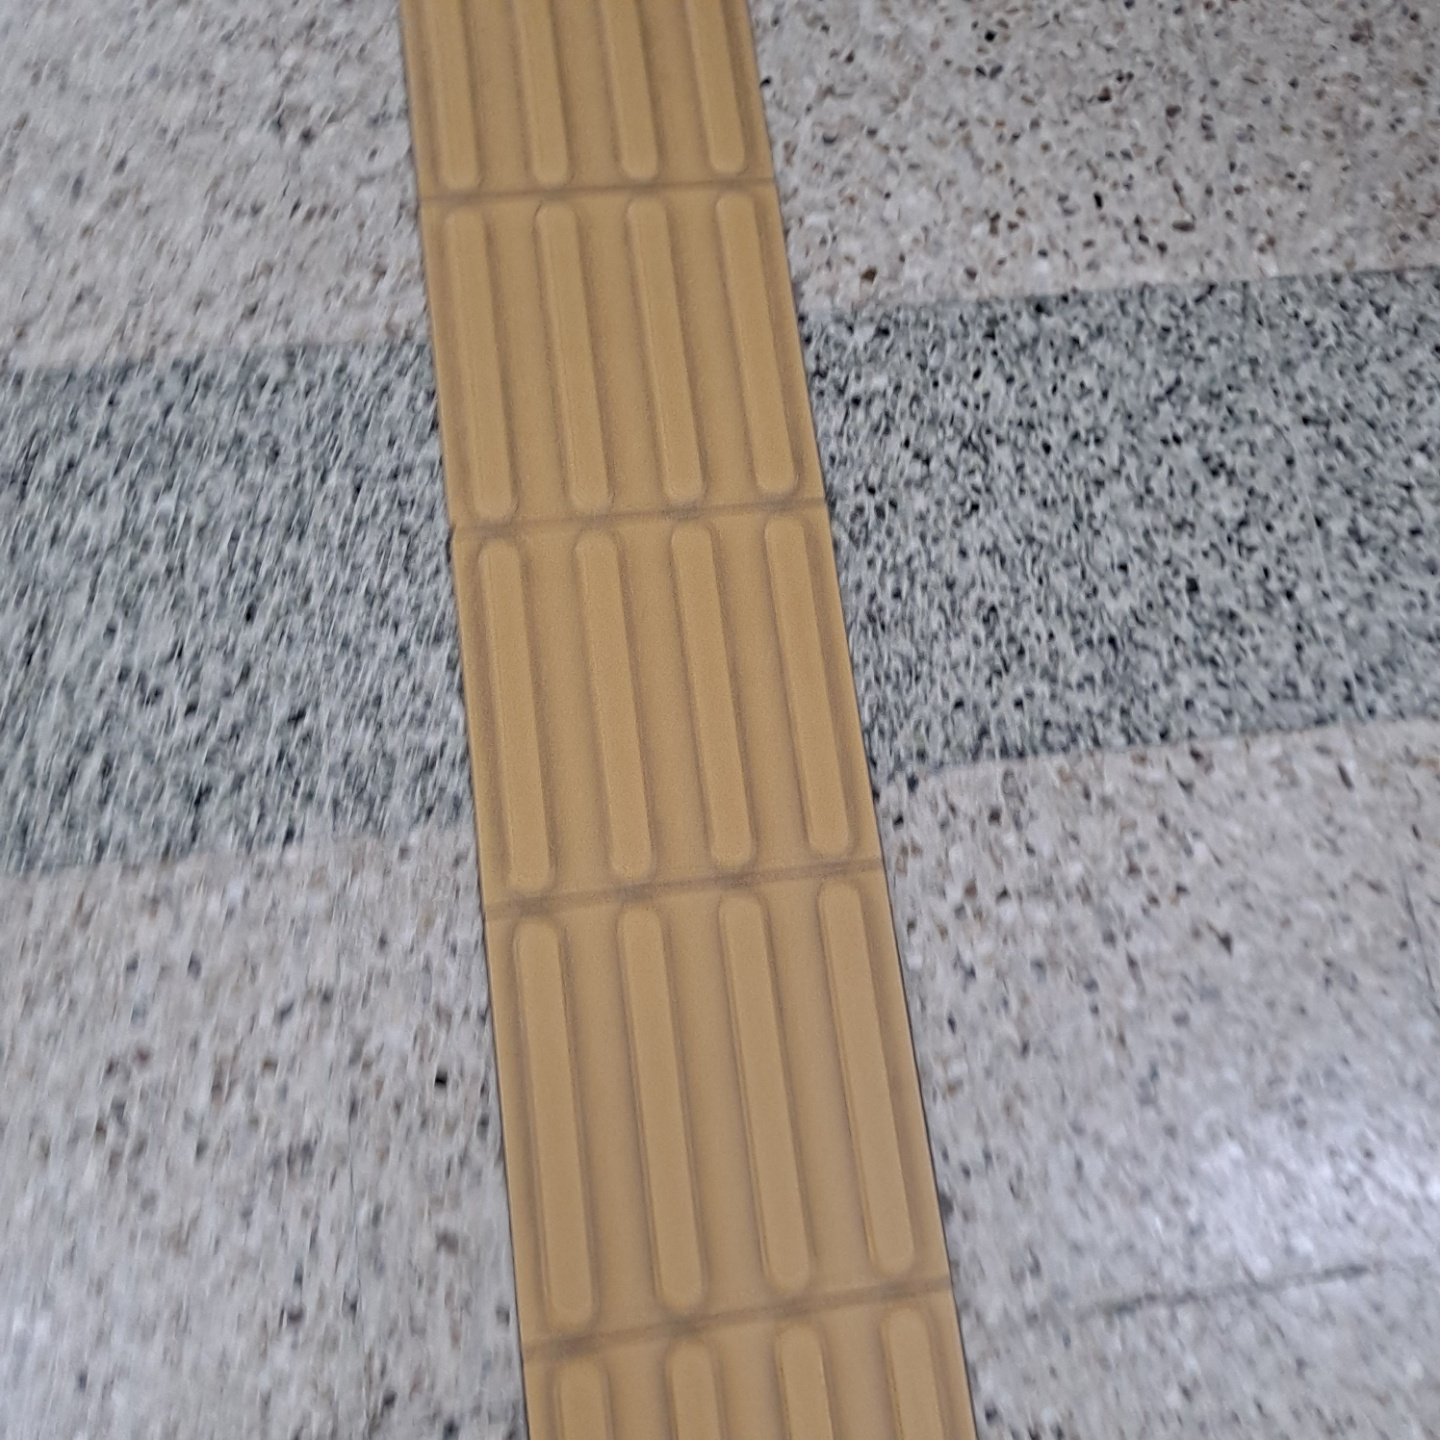guideBlock: (462, 893, 940, 1307), (467, 529, 898, 891), (433, 185, 818, 524), (497, 1295, 1004, 1440), (375, 1, 769, 179)
